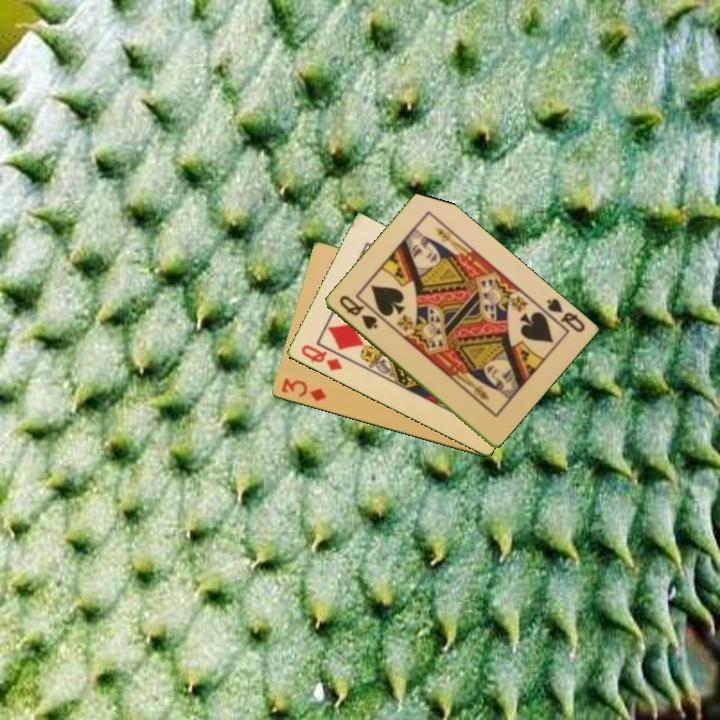3d: (278, 375, 329, 405)
Qd: (297, 341, 345, 374)
Qs: (537, 295, 587, 335), (335, 292, 381, 332)
